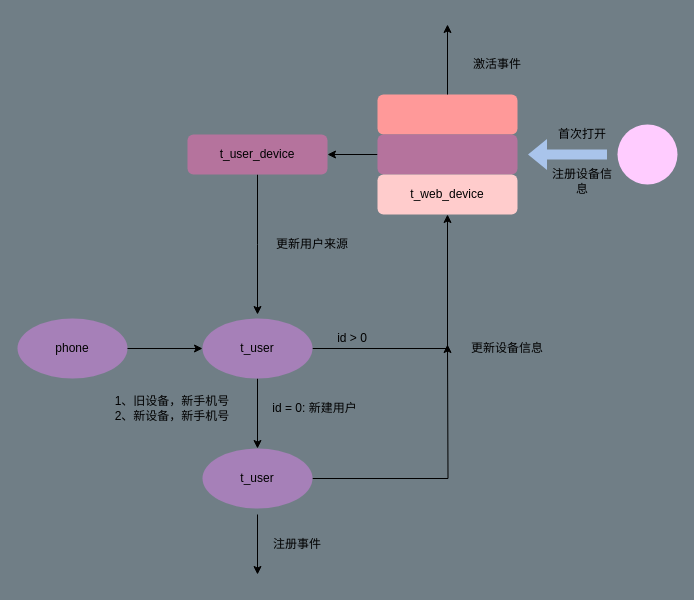
Some shapes in this 694 by 600 pixel diagram are drawn without their labels. The shapes that lost their labels are listed below. From the top down, each one's box as (x1, y1, x2, y2) in pixels, then its label:
(377, 94, 517, 134): t_app_device
(377, 134, 517, 174): t_miniapp_device
